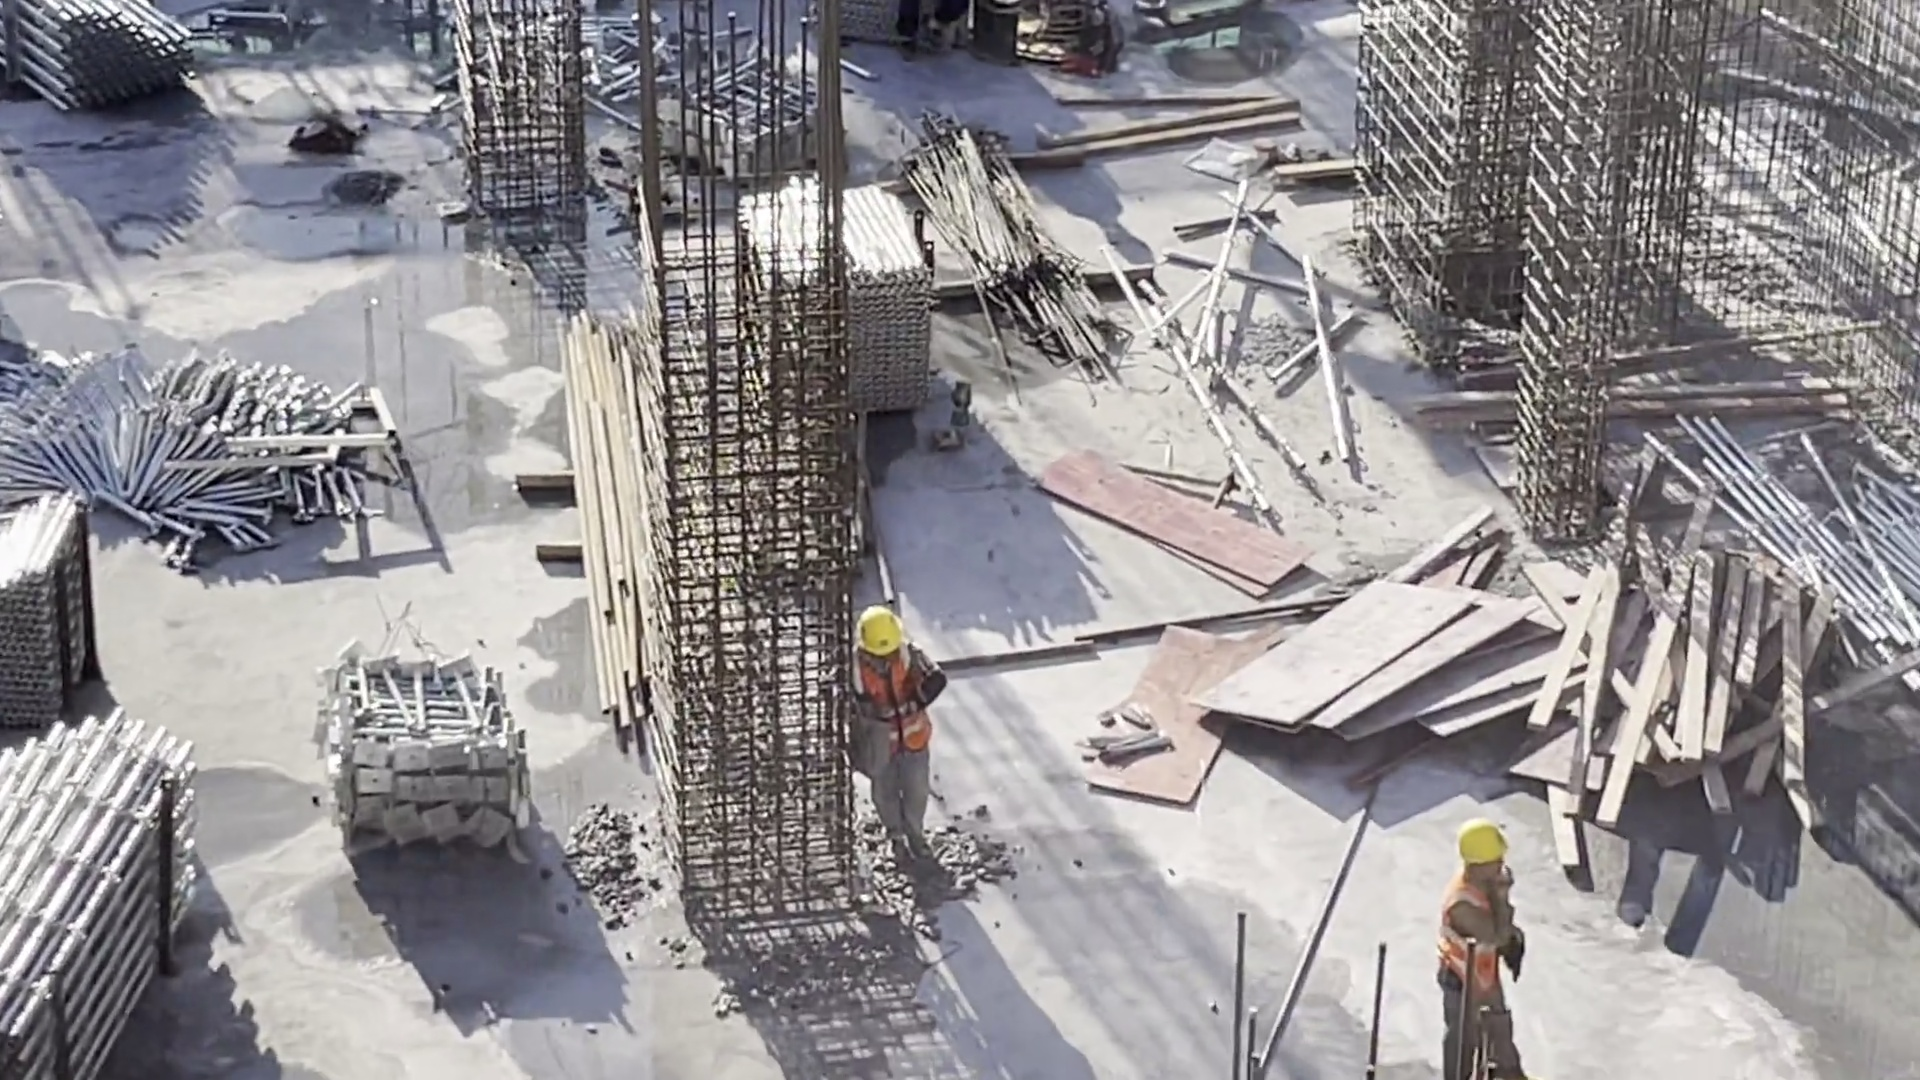board: (1187, 585, 1540, 757)
helmet: (859, 609, 907, 657), (1456, 822, 1508, 861)
person: (1437, 815, 1555, 1080), (845, 578, 943, 856)
scaffold: (1, 706, 206, 1076), (1, 342, 376, 542), (306, 632, 535, 865), (728, 199, 942, 426), (605, 43, 834, 178), (1, 468, 105, 716), (1781, 443, 1920, 623), (1, 3, 216, 114)
vest: (844, 650, 934, 754), (1439, 874, 1505, 988)
wood: (1556, 500, 1818, 827)
